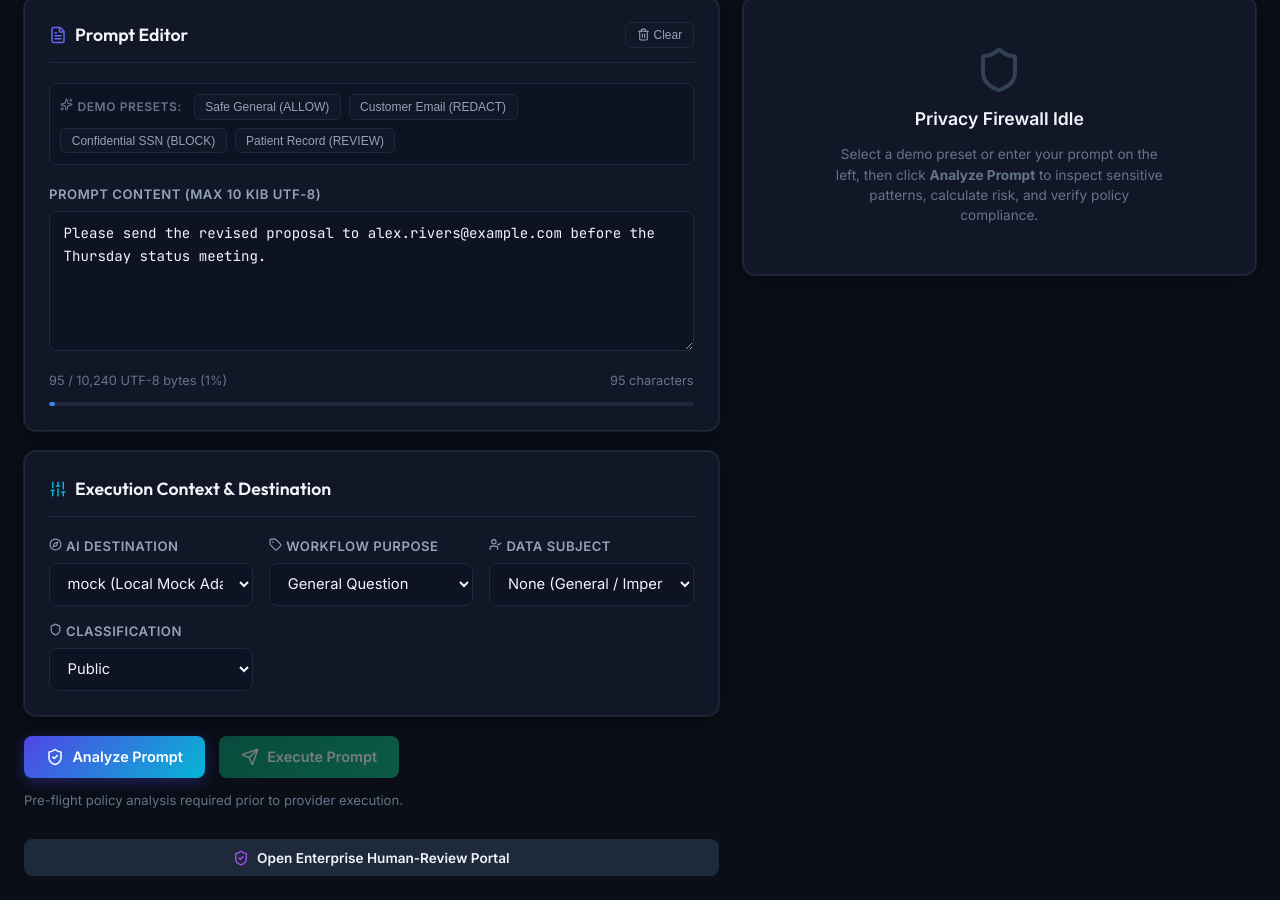
Test: PrivAI App Integration › analyzes prompt and renders ALLOW policy decision
(page scrolled)
Click the button "Analyze Prompt" at (115, 757), box top-left (24, 736), bottom-right (205, 778)
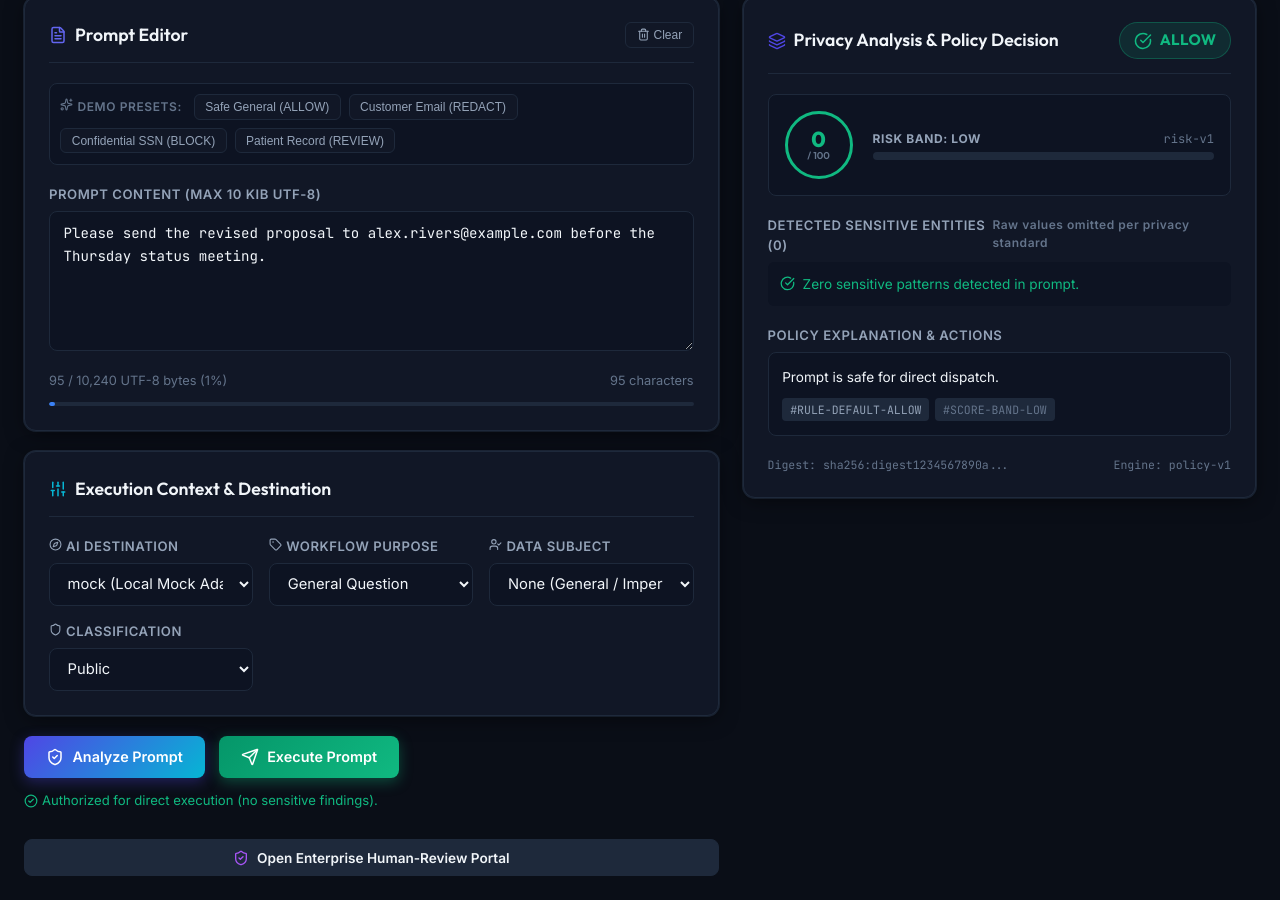
Now the text "ALLOW" is shown, box top-left (1160, 29), bottom-right (1216, 52)
Now the text "0" is shown, box top-left (811, 129), bottom-right (826, 151)
Now the text "Authorized for direct execution (no sensitive findings)." is shown, box top-left (24, 791), bottom-right (378, 811)
